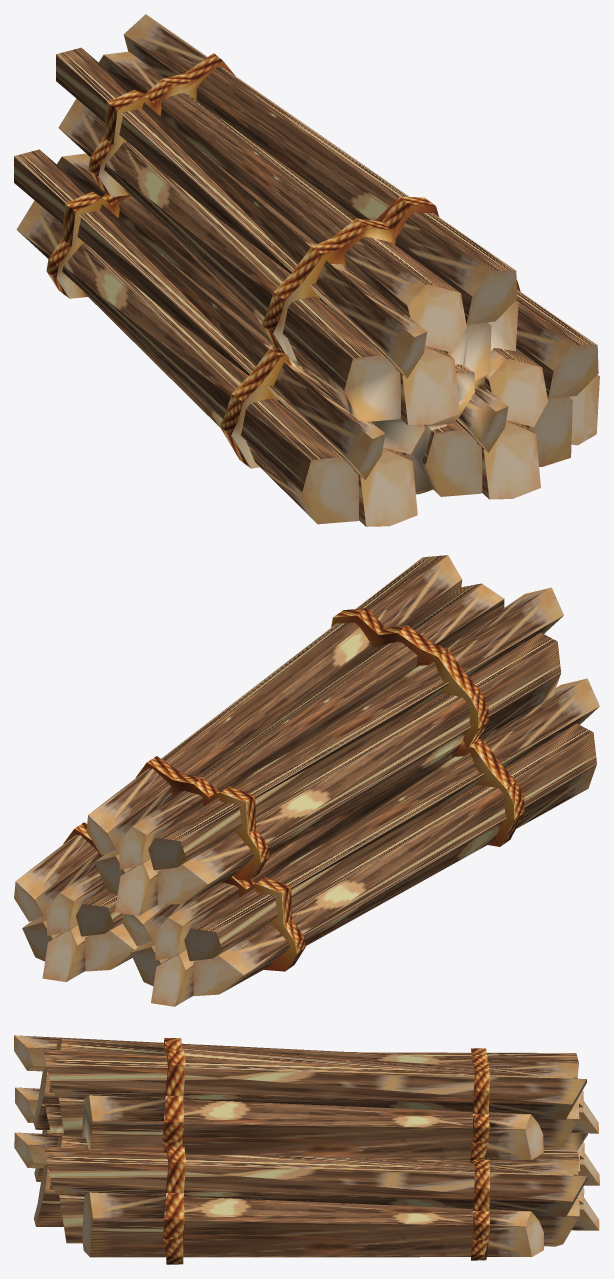
File: DJG_BoundTreeBranches10.fbx
3 renders of one model, top to bottom at view 1: azimuth 30°, elevation 25°; view 2: azimuth 150°, elevation 25°; view 3: azimuth 270°, elevation 25°, orthographic. The views are drawn at different scales.
Parts seen in each view (by area): view 1: Bound tree branches.003; view 2: Bound tree branches.003; view 3: Bound tree branches.003.
Part boxes in pixels (x1,y1,x2,y2): Bound tree branches.003: (14,14,599,526); Bound tree branches.003: (14,555,599,1006); Bound tree branches.003: (14,1035,599,1264).
Bounding box in the file's own units: 0.2466 × 0.1684 × 0.5323.
Materials: 1 (1 with a texture image).
